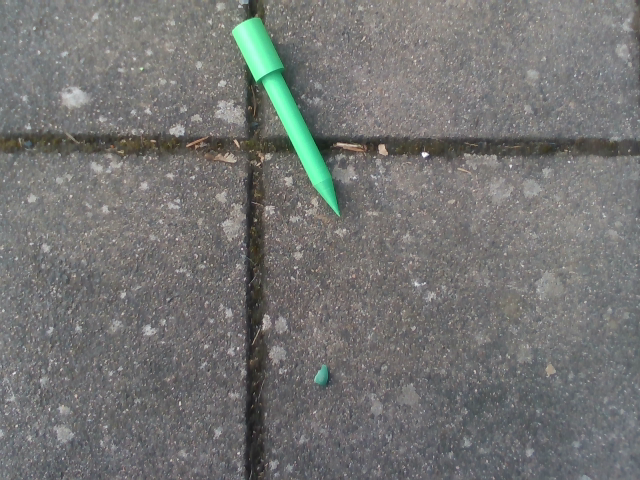Probe: (227, 14, 343, 223)
